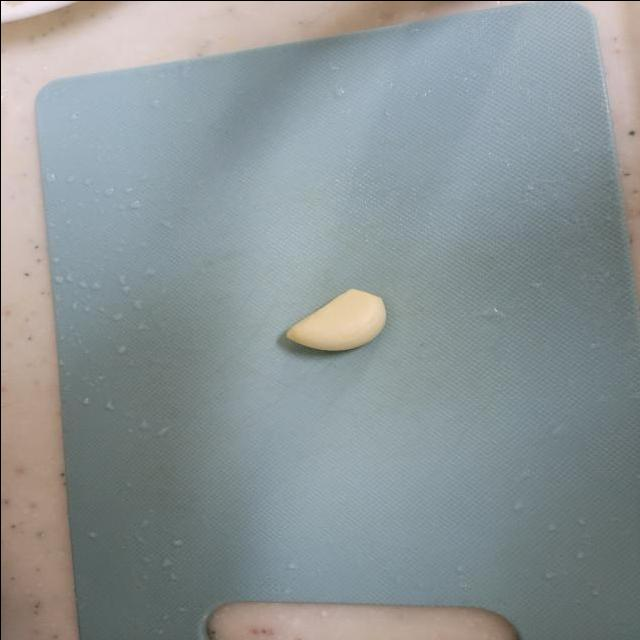garlic: (282, 285, 388, 355)
